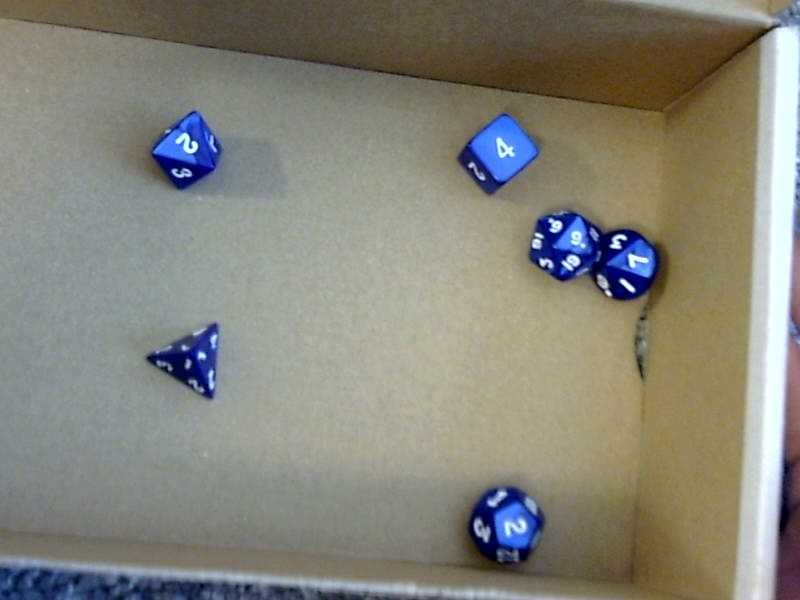d10 7: (598, 223, 669, 304)
d12 2: (460, 478, 548, 566)
d20 9: (525, 203, 600, 280)
d4 1: (136, 319, 227, 405)
d8 2: (141, 103, 221, 186)
